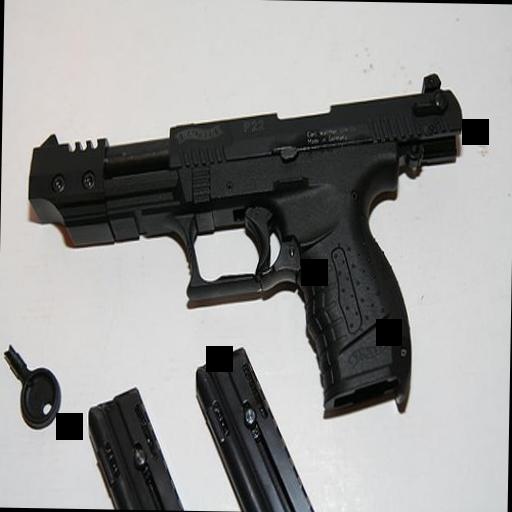Handgun: (22, 64, 462, 424)
